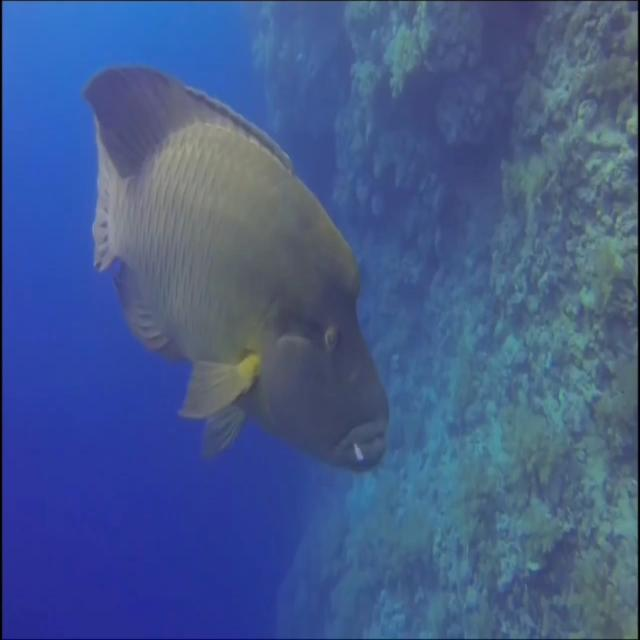Napoleon -Endangered-: (89, 69, 395, 480)
